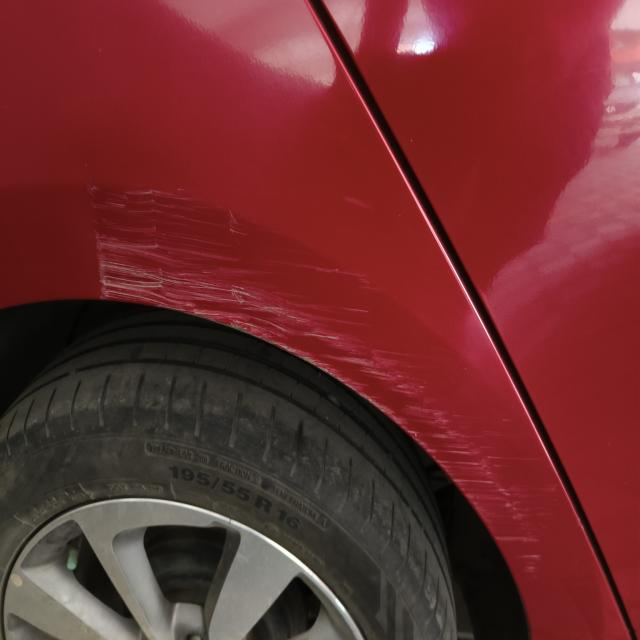scratch: (80, 161, 570, 577)
